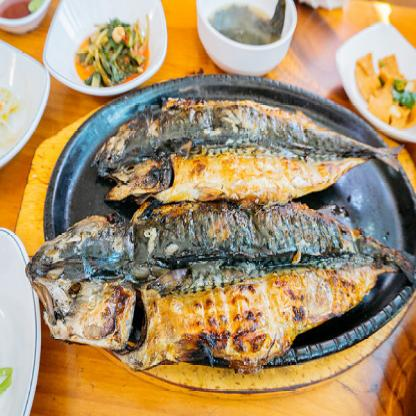Peixe: (30, 103, 416, 371)
